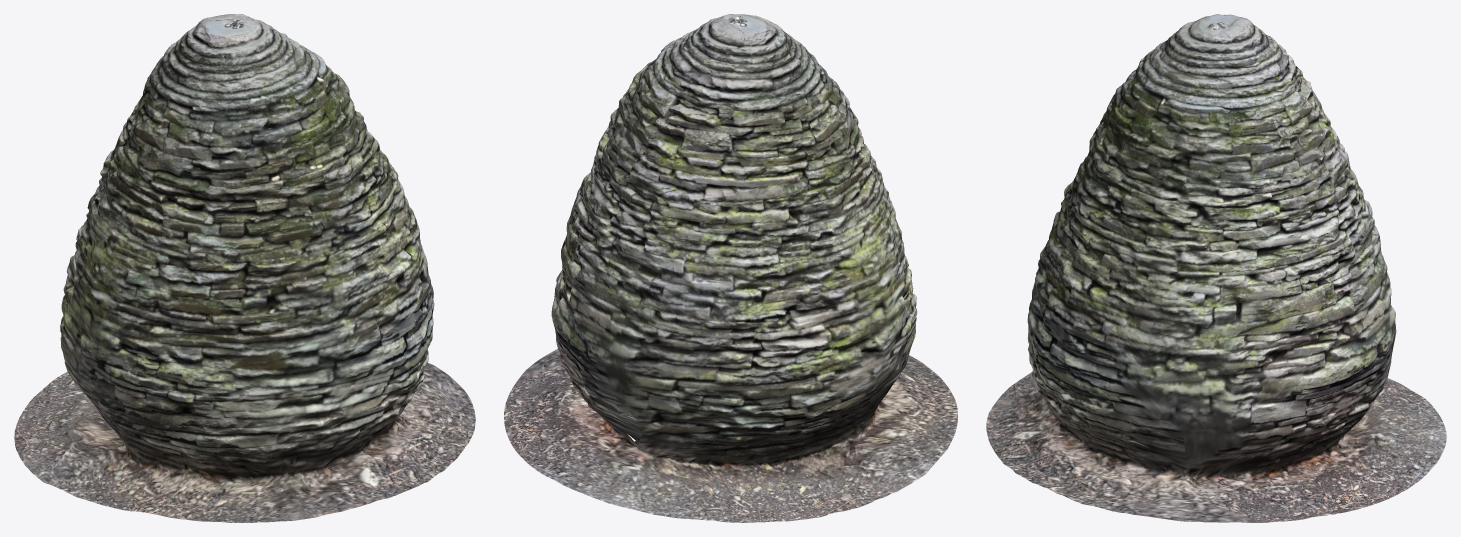
The model's file is preview.glb.
3 views of the same model, side by side, from view 1: azimuth 30°, elevation 25°; view 2: azimuth 150°, elevation 25°; view 3: azimuth 270°, elevation 25° (orthographic).
Visible parts, largest first — view 1: Object_2; view 2: Object_2; view 3: Object_2.
Boxes of the visible parts, box(x1,y1,x2,y2) form: Object_2: box(14, 14, 475, 522); Object_2: box(504, 14, 957, 522); Object_2: box(986, 14, 1446, 522).
Size of the model in its own units: 1.72 by 1.73 by 1.73.
1 material, 1 textured.
